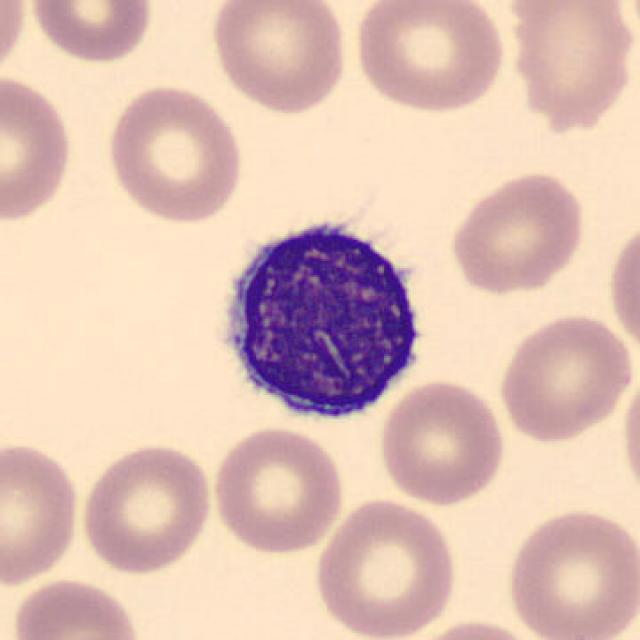Lymphocyte: (205, 205, 439, 430)
RBC: (311, 495, 461, 640), (103, 81, 247, 226), (75, 439, 217, 577), (494, 308, 635, 444), (208, 423, 347, 557), (444, 168, 588, 296), (503, 504, 638, 640), (350, 0, 508, 116), (502, 0, 638, 134), (375, 376, 509, 508), (206, 0, 352, 116), (0, 437, 84, 589), (0, 70, 76, 225), (7, 575, 146, 640), (25, 0, 156, 65), (604, 215, 640, 358), (402, 615, 546, 640), (617, 363, 640, 506), (0, 0, 30, 86)
